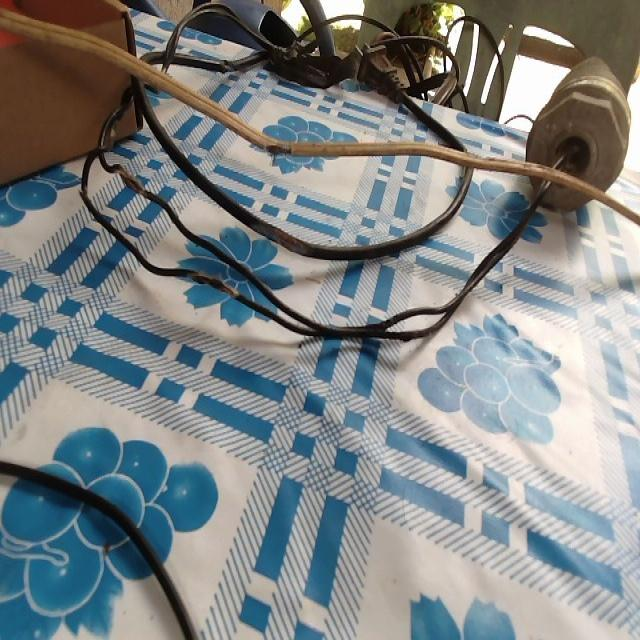-: (257, 220, 303, 255), (112, 168, 150, 199), (189, 270, 235, 294), (263, 142, 290, 154)
